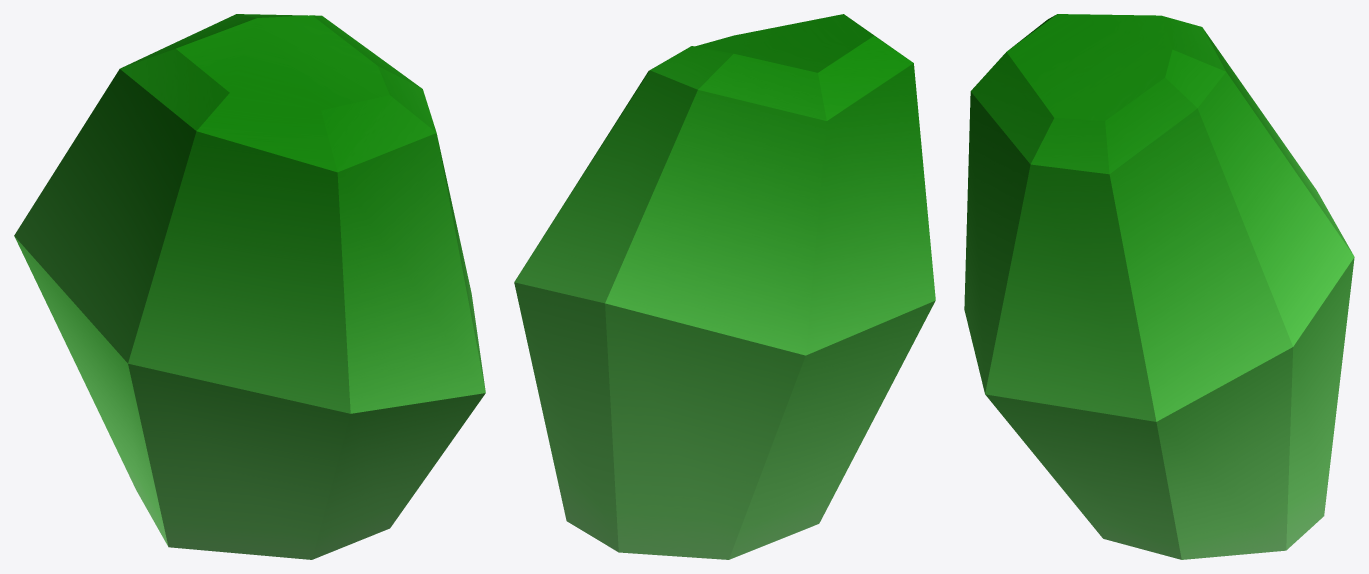
Rendered from Cristal01.fbx.
3 renders of one model, left to right at view 1: azimuth 30°, elevation 25°; view 2: azimuth 150°, elevation 25°; view 3: azimuth 270°, elevation 25°, orthographic. The views are drawn at different scales.
Visible parts, largest first — view 1: Cylinder.003; view 2: Cylinder.003; view 3: Cylinder.003.
Boxes of the visible parts, bbox=[...] form: Cylinder.003: bbox=[14, 14, 485, 559]; Cylinder.003: bbox=[514, 14, 935, 559]; Cylinder.003: bbox=[964, 14, 1354, 559].
Size of the model in its own units: 274 by 345 by 272.
